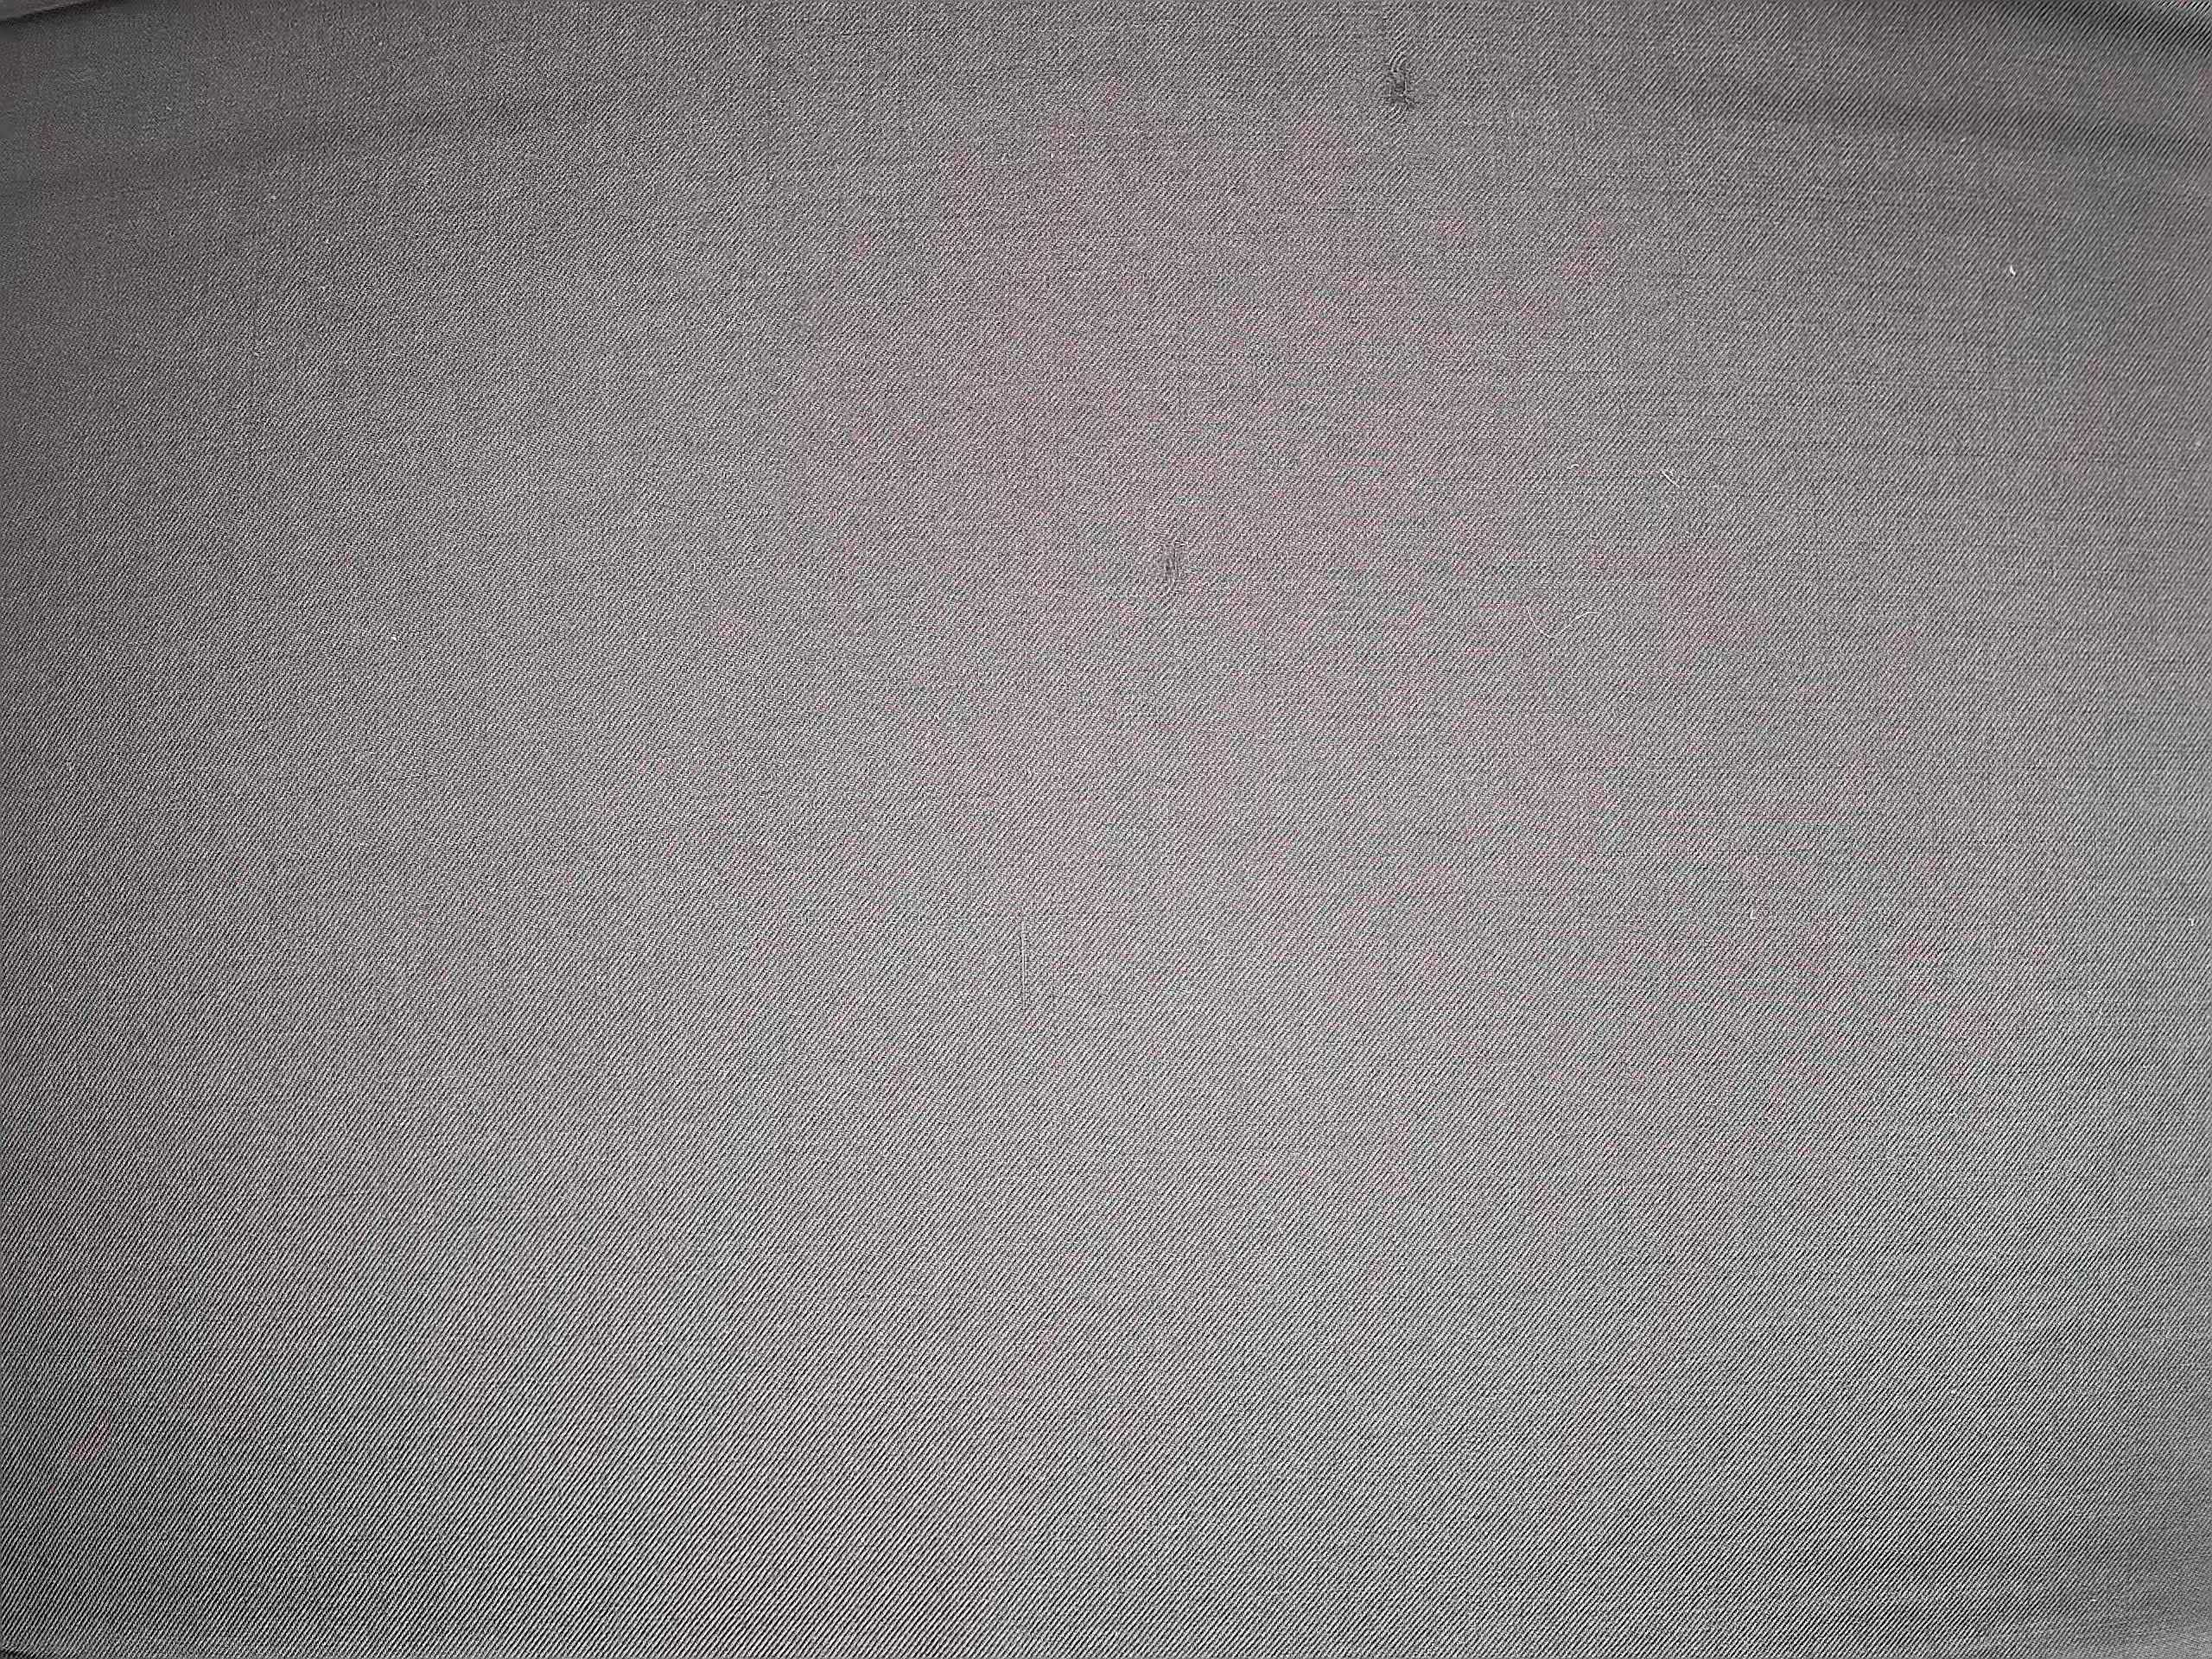rubbing-hole: (1141, 516, 1202, 608), (1369, 45, 1432, 131)
